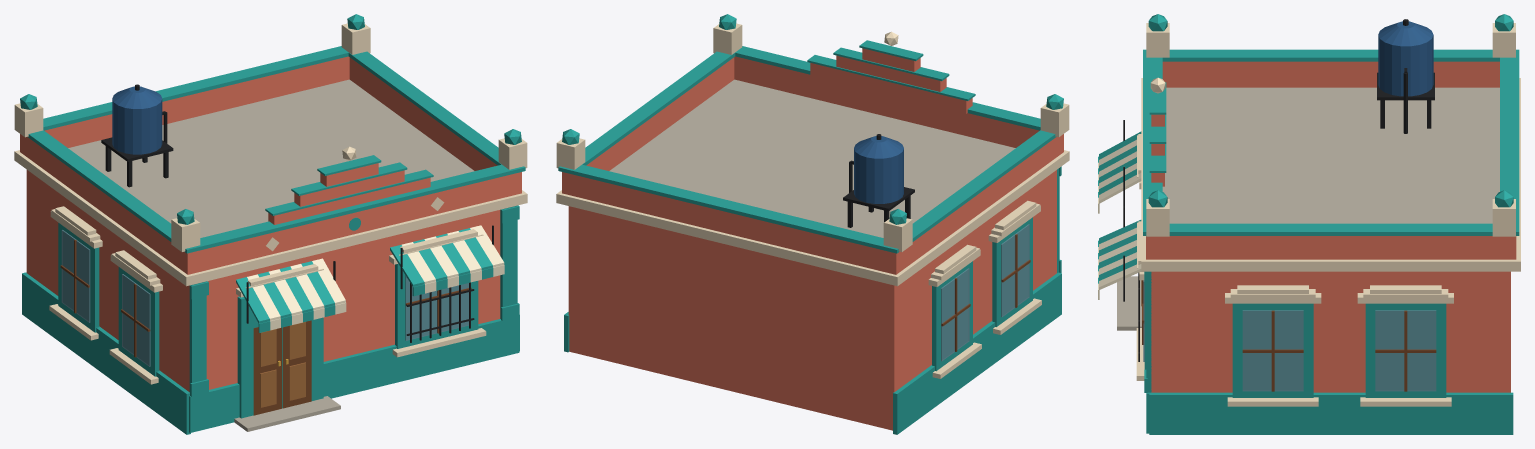
File: casita-coral-plana.glb
3 views of the same model, side by side, from view 1: azimuth 30°, elevation 25°; view 2: azimuth 150°, elevation 25°; view 3: azimuth 270°, elevation 25° (orthographic). The views are drawn at different scales.
Parts seen in each view (by area): view 1: Casita_Coral_Plana_MuroCoral, Casita_Coral_Plana_Turquesa, Casita_Coral_Plana_LosaTecho, Casita_Coral_Plana_Crema, Casita_Coral_Plana_Vidrio, Casita_Coral_Plana_ToldoTurq, Casita_Coral_Plana_ToldoCrema, Casita_Coral_Plana_Madera, Casita_Coral_Plana_TanqueAzul, Casita_Coral_Plana_Hierro, Casita_Coral_Plana_MaderaClara, Casita_Coral_Plana_Piedra; view 2: Casita_Coral_Plana_MuroCoral, Casita_Coral_Plana_LosaTecho, Casita_Coral_Plana_Turquesa, Casita_Coral_Plana_Crema, Casita_Coral_Plana_Vidrio, Casita_Coral_Plana_TanqueAzul, Casita_Coral_Plana_Hierro, Casita_Coral_Plana_Madera; view 3: Casita_Coral_Plana_LosaTecho, Casita_Coral_Plana_MuroCoral, Casita_Coral_Plana_Turquesa, Casita_Coral_Plana_Crema, Casita_Coral_Plana_Vidrio, Casita_Coral_Plana_TanqueAzul, Casita_Coral_Plana_ToldoCrema, Casita_Coral_Plana_ToldoTurq, Casita_Coral_Plana_Hierro, Casita_Coral_Plana_Madera, Casita_Coral_Plana_Piedra.
Part boxes in pixels (x1,y1,x2,y2): Casita_Coral_Plana_MuroCoral: (20,56,521,391); Casita_Coral_Plana_Turquesa: (20,14,525,434); Casita_Coral_Plana_LosaTecho: (68,79,474,237); Casita_Coral_Plana_Crema: (14,23,527,384); Casita_Coral_Plana_Vidrio: (61,230,468,366); Casita_Coral_Plana_ToldoTurq: (236,228,493,332); Casita_Coral_Plana_ToldoCrema: (247,225,504,330); Casita_Coral_Plana_Madera: (60,239,471,415); Casita_Coral_Plana_TanqueAzul: (112,86,162,154); Casita_Coral_Plana_Hierro: (101,84,493,342); Casita_Coral_Plana_MaderaClara: (260,322,305,407); Casita_Coral_Plana_Piedra: (234,396,340,431); Casita_Coral_Plana_MuroCoral: (562,48,1063,430); Casita_Coral_Plana_LosaTecho: (609,79,1015,237); Casita_Coral_Plana_Turquesa: (558,14,1063,434); Casita_Coral_Plana_Crema: (556,23,1069,378); Casita_Coral_Plana_Vidrio: (941,224,1029,361); Casita_Coral_Plana_TanqueAzul: (854,136,903,203); Casita_Coral_Plana_Hierro: (843,134,914,227); Casita_Coral_Plana_Madera: (941,234,1030,351); Casita_Coral_Plana_LosaTecho: (1162,87,1499,223); Casita_Coral_Plana_MuroCoral: (1146,61,1516,392); Casita_Coral_Plana_Turquesa: (1143,14,1519,434); Casita_Coral_Plana_Crema: (1136,23,1520,406); Casita_Coral_Plana_Vidrio: (1143,280,1436,391); Casita_Coral_Plana_TanqueAzul: (1378,21,1433,96); Casita_Coral_Plana_ToldoCrema: (1098,139,1141,299); Casita_Coral_Plana_ToldoTurq: (1098,131,1141,283); Casita_Coral_Plana_Hierro: (1123,19,1434,361); Casita_Coral_Plana_Madera: (1142,280,1436,391); Casita_Coral_Plana_Piedra: (1117,276,1141,330).
Bounding box in the file's own units: 8.04 × 5.46 × 7.65.
